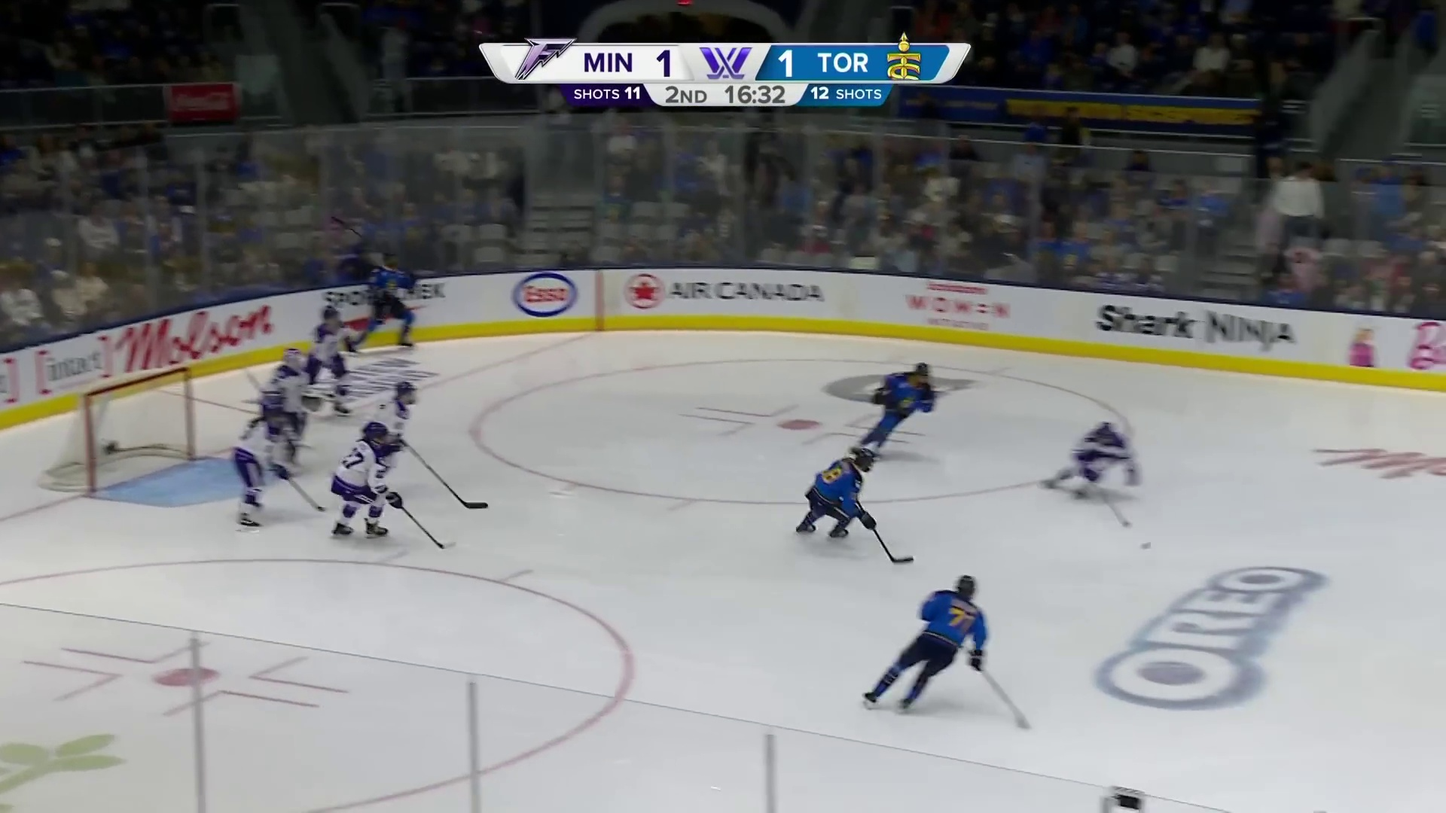player: (864, 574, 988, 712), (331, 420, 406, 539), (1036, 419, 1147, 499), (796, 443, 878, 538), (234, 413, 294, 533), (862, 361, 934, 449)
puck: (1142, 542, 1151, 548)
